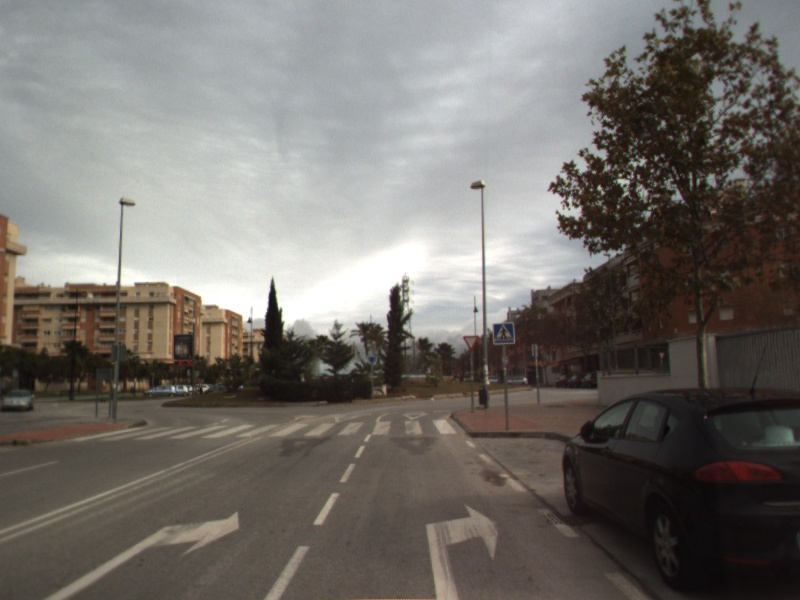RIGHT: (41, 506, 242, 600), (423, 501, 502, 600)
